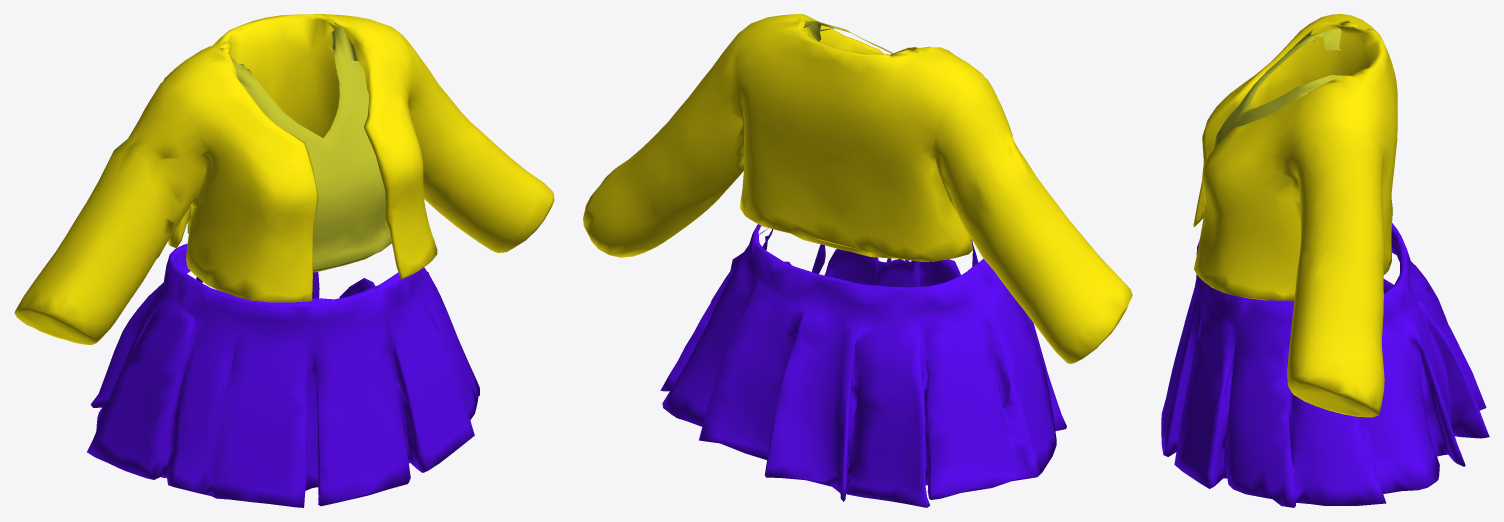
Rendered from fanmeet_outfit.glb.
The picture shows the model from 3 angles, left to right: view 1: azimuth 30°, elevation 25°; view 2: azimuth 150°, elevation 25°; view 3: azimuth 270°, elevation 25°; orthographic projection. The views are drawn at different scales.
Visible parts, largest first — view 1: fanmeet_cardigan, fanmeet_skirt, fanmeet_inner; view 2: fanmeet_cardigan, fanmeet_skirt; view 3: fanmeet_cardigan, fanmeet_skirt, fanmeet_inner.
Part boxes in pixels (bbox=[...]): fanmeet_cardigan: bbox=[14, 14, 554, 344]; fanmeet_skirt: bbox=[87, 243, 479, 507]; fanmeet_inner: bbox=[187, 21, 391, 272]; fanmeet_cardigan: bbox=[583, 14, 1132, 363]; fanmeet_skirt: bbox=[660, 224, 1066, 507]; fanmeet_cardigan: bbox=[1193, 14, 1397, 417]; fanmeet_skirt: bbox=[1161, 223, 1489, 507]; fanmeet_inner: bbox=[1214, 28, 1345, 148].
Size of the model in its own units: 0.8371 by 0.6142 by 0.465.
